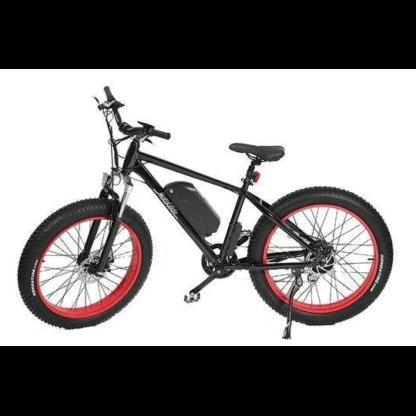Bicycle: (8, 79, 404, 339)
